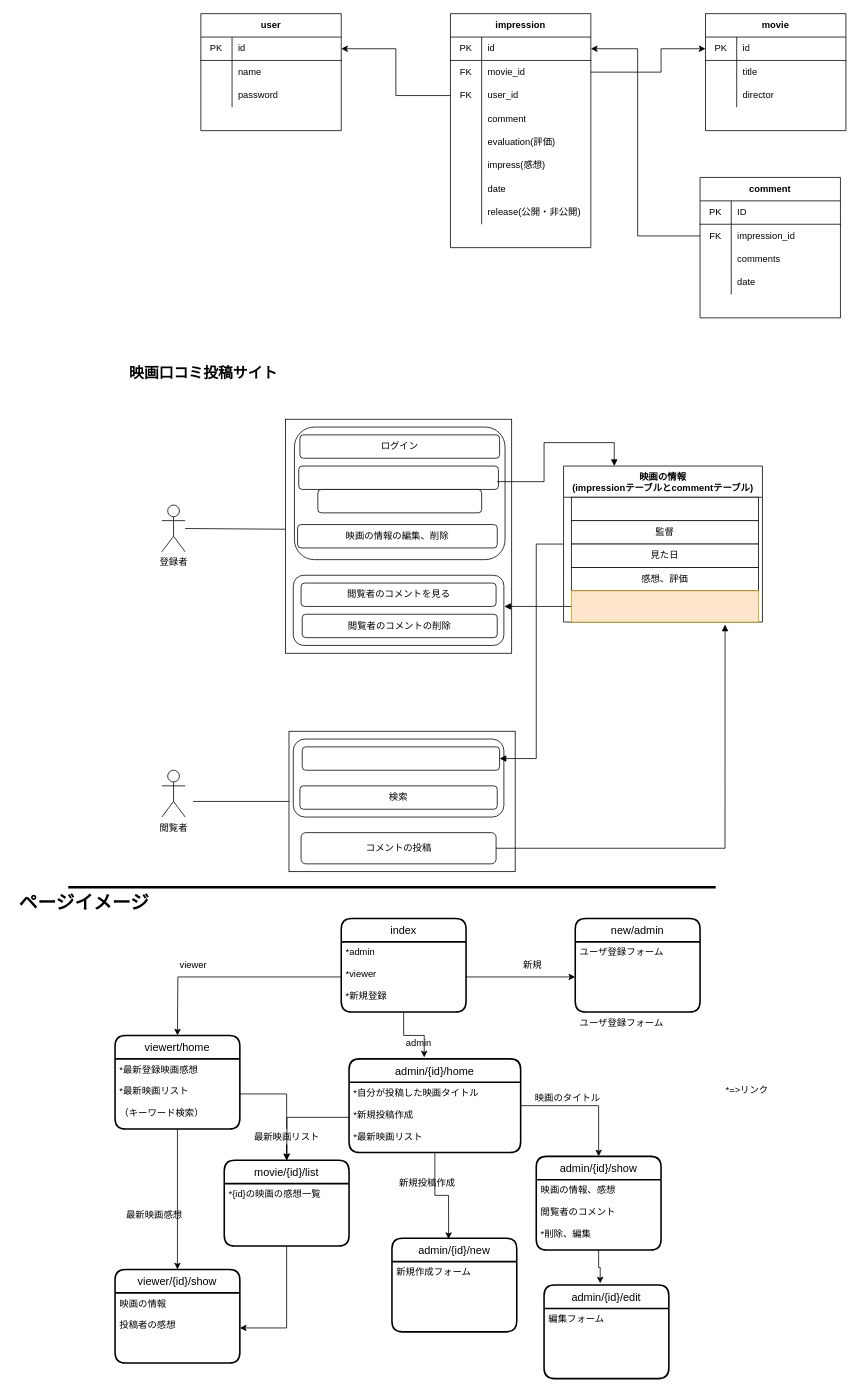
Some shapes in this 860 by 1393 pixel diagram are drawn without their labels. Each missing label, with the centre of its shape:
"タイトル" goes at pixel 665 508.
"出来れば公開非公開の選択" goes at pixel 399 501.
"映画の情報" goes at pixel 400 758.
"自分が見た映画の情報の登録" goes at pixel 398 477.
"閲覧者のコメント" goes at pixel 665 606.
